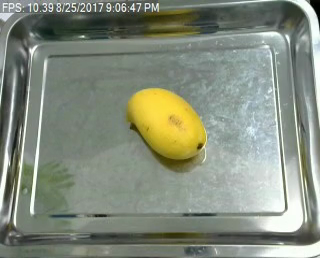Mango: (123, 82, 210, 163)
